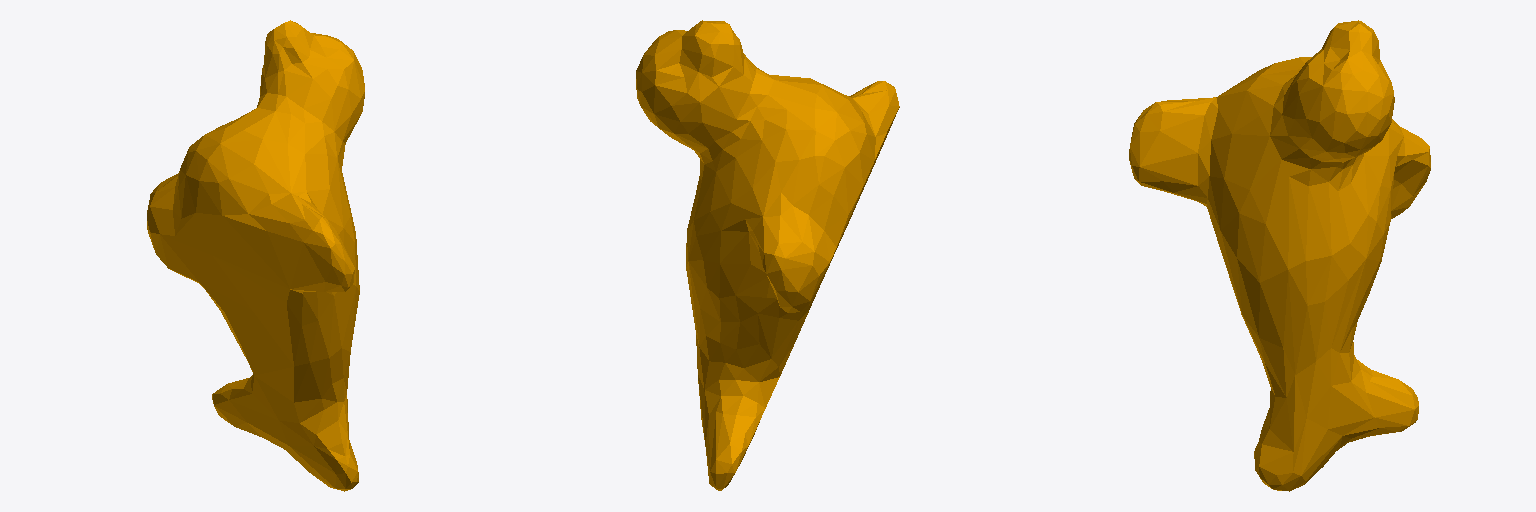
URDF robot description (Seal_800_tex):
<?xml version="1.0"?>
<robot name="Seal_800_tex">
  <link name="base_link">
    <contact>
      <lateral_friction value="1.0"/>
      <rolling_friction value="0.0"/>
      <contact_cfm value="0.0"/>
      <contact_erp value="1.0"/>
    </contact>
    <inertial>
      <mass value="0.0159232585539"/>
      <inertia ixx="1" ixy="0" ixz="0" iyy="1" iyz="0" izz="1"/>
    </inertial>
    <visual>
      <geometry>
        <mesh filename="Seal_800_tex_visual.obj"/>
      </geometry>
    </visual>
    <collision>
      <geometry>
        <mesh filename="Seal_800_tex_collision.obj"/>
      </geometry>
    </collision>
  </link>
</robot>

--- What the picture shows (computed from the rendered views, not written in the file) ---
The picture shows the robot from 3 angles, left to right: view 1: azimuth 30°, elevation 25°; view 2: azimuth 150°, elevation 25°; view 3: azimuth 270°, elevation 25°; orthographic projection.
Model Seal_800_tex with 1 links and 0 joints (none), rooted at base_link, posed every joint at zero.
Visible links, largest first — view 1: base_link; view 2: base_link; view 3: base_link.
Link boxes in pixels (x1,y1,x2,y2): base_link: (147, 20, 364, 491); base_link: (636, 20, 899, 490); base_link: (1129, 20, 1430, 491).
Size in the robot's own frame: 0.0331 by 0.045 by 0.0754 metres.
1 mesh visuals loaded from 1 distinct referenced files (1 OBJ).